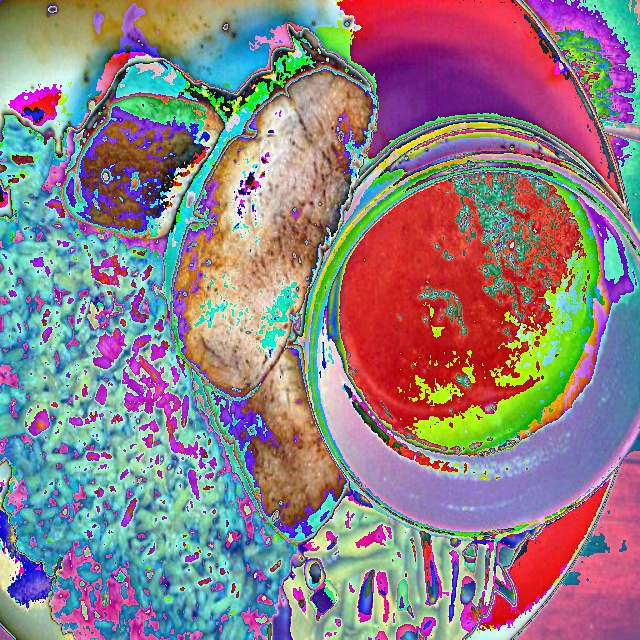background: (0, 24, 545, 639), (312, 172, 639, 458)
